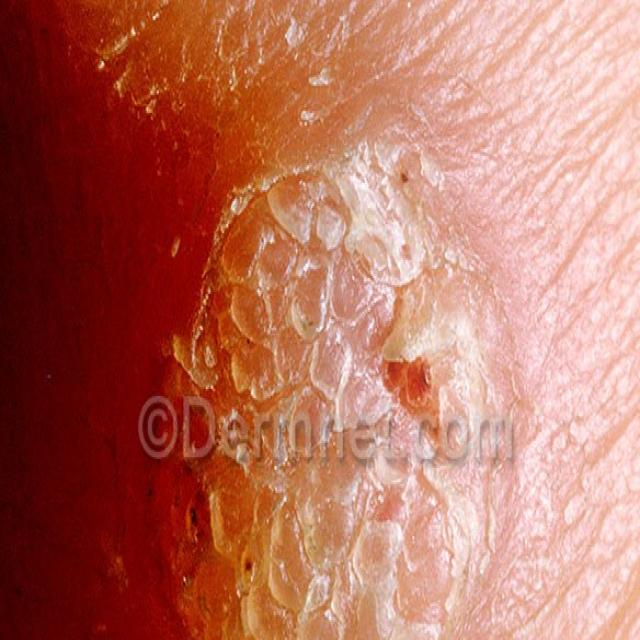Warts: (134, 109, 509, 640)
